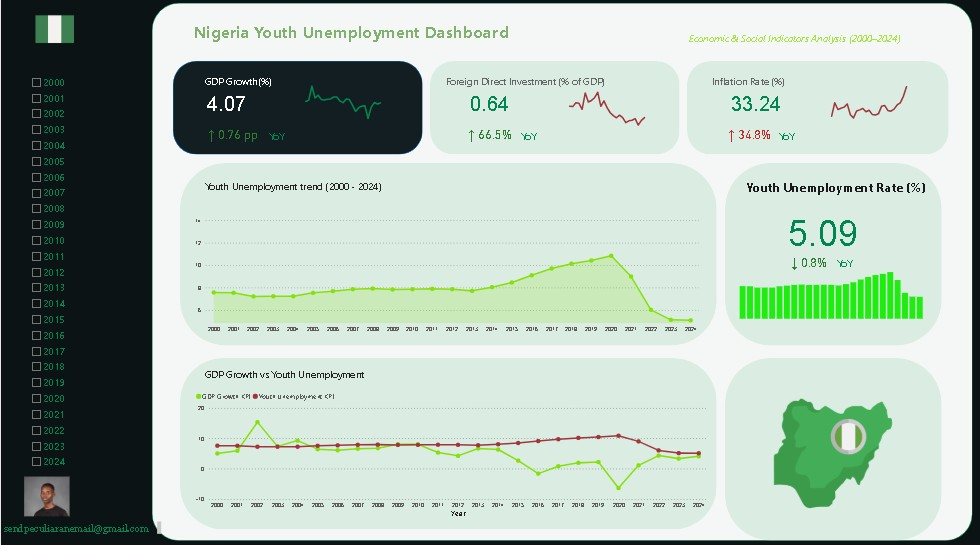

Layout of this report page (visuals, bound fields, positions):
{"tool":"powerbi","page":{"name":"Page 1","canvas":[1920,1080],"ordinal":0},"visuals":[{"type":"shape","box":[295.3,12.9,1608.1,1054.1],"z":0,"group":"g8"},{"type":"image","box":[58.2,12.9,92.7,103.5],"z":1000},{"type":"textbox","box":[372.9,40.9,676.9,60.4],"z":1000,"group":"g8"},{"type":"textbox","box":[1285.8,64.6,541,37.2],"z":2000,"group":"g8"},{"type":"slicer","fields":{"Values":["Economic_social_indicators.Year"]},"box":[47.4,148.7,206.9,786.8],"z":2000},{"type":"group","id":"g1","title":"Group 1","box":[1345.1,127.2,513.1,183.2],"z":3000,"group":"g8"},{"type":"group","id":"g2","title":"Group 2","box":[840.7,127.2,489.3,183.2],"z":4000,"group":"g8"},{"type":"shape","box":[840.7,127.2,489.3,183.2],"z":4000,"group":"g2"},{"type":"shape","box":[1418.4,709.2,424.7,357.8],"z":4000,"group":"g7"},{"type":"group","id":"g3","title":"Group 3","box":[336.3,127.2,489.3,183.2],"z":5000,"group":"g8"},{"type":"shape","box":[336.3,127.2,489.3,183.2],"z":5000,"group":"g3"},{"type":"image","box":[1480,764,302,264],"z":5000,"group":"g7"},{"type":"image","box":[30.2,937.7,120.7,88.4],"z":5000},{"type":"group","id":"g4","title":"Group 4","box":[1418.4,327.6,426.8,357.8],"z":6000,"group":"g8"},{"type":"shape","box":[1418.4,327.6,424.7,357.8],"z":6000,"group":"g4"},{"type":"textbox","box":[0,1025.1,319.5,41.2],"z":6000},{"type":"shape","box":[1345.1,127.2,513.1,183.2],"z":7000,"group":"g1"},{"type":"group","id":"g5","title":"Group 5","box":[351.3,327.6,1052,357.8],"z":7000,"group":"g8"},{"type":"shape","box":[351.3,327.6,1052,357.8],"z":8000,"group":"g5"},{"type":"group","id":"g6","title":"Group 6","box":[351.3,709.2,1052,336.3],"z":8000,"group":"g8"},{"type":"shape","box":[351.3,709.2,1052,336.3],"z":9000,"group":"g6"},{"type":"group","id":"g7","title":"Group 7","box":[1418.4,709.2,424.7,357.8],"z":9000,"group":"g8"},{"type":"card","fields":{"Values":["Economic_social_indicators.GDP Growth KPI"]},"box":[351.4,178.9,183.2,62.5],"z":12000,"group":"g3"},{"type":"card","fields":{"Values":["Economic_social_indicators.FDI_KPI"]},"box":[866.6,178.9,183.2,62.5],"z":13000,"group":"g2"},{"type":"group","id":"g8","title":"Group 8","box":[295.3,12.9,1608.1,1054.1],"z":13001},{"type":"card","fields":{"Values":["Economic_social_indicators.Inflation_KPI"]},"box":[1388.2,178.9,183.2,62.5],"z":14000,"group":"g1"},{"type":"card","fields":{"Values":["Economic_social_indicators.Youth Unemployment KPI"]},"box":[1519.7,403,183.2,109.9],"z":15000,"group":"g4"},{"type":"textbox","box":[394.5,148.8,278.1,45.3],"z":16000,"group":"g3"},{"type":"textbox","box":[866.6,148.8,342.8,45.3],"z":17000,"group":"g2"},{"type":"textbox","box":[1388.2,148.8,260.8,45.3],"z":18000,"group":"g1"},{"type":"textbox","box":[1457.2,353.5,388,49.6],"z":19000,"group":"g4"},{"type":"lineChart","fields":{"Category":["Economic_social_indicators.Year"],"Y":["Economic_social_indicators.GDP Growth KPI"]},"box":[582,148.8,213.4,107.8],"z":20000,"group":"g3"},{"type":"lineChart","fields":{"Category":["Economic_social_indicators.Year"],"Y":["Economic_social_indicators.FDI_KPI"]},"box":[1099.4,172.5,213.4,107.8],"z":21000,"group":"g2"},{"type":"lineChart","fields":{"Category":["Economic_social_indicators.Year"],"Y":["Economic_social_indicators.Inflation_KPI"]},"box":[1612.4,148.8,213.4,107.8],"z":22000,"group":"g1"},{"type":"columnChart","fields":{"Category":["Economic_social_indicators.Year"],"Y":["Economic_social_indicators.Youth Unemployment KPI"]},"box":[1442.1,491.4,383.7,146.6],"z":23000,"group":"g4"},{"type":"card","fields":{"Values":["Economic_social_indicators.GDP Growth YoY Display"]},"box":[375.1,241.5,159.5,58.2],"z":24000,"group":"g3"},{"type":"card","fields":{"Values":["Economic_social_indicators.FDI YoY Display"]},"box":[866.6,241.5,183.2,58.2],"z":25000,"group":"g2"},{"type":"card","fields":{"Values":["Economic_social_indicators.Youth Unemployment YoY Display"]},"box":[1502.5,491.4,159.5,58.2],"z":26000,"group":"g4"},{"type":"card","fields":{"Values":["Economic_social_indicators.Inflation YoY Display"]},"box":[1388.2,241.5,159.5,58.2],"z":27000,"group":"g1"},{"type":"textbox","box":[519.5,256.5,125,47.4],"z":28000,"group":"g3"},{"type":"textbox","box":[1013.2,256.5,194,53.9],"z":29000,"group":"g2"},{"type":"textbox","box":[1519.7,256.5,131.5,53.9],"z":30000,"group":"g1"},{"type":"textbox","box":[1631.8,506.5,88.4,58.2],"z":31000,"group":"g4"},{"type":"areaChart","fields":{"Category":["YEAR.Year"],"Y":["Economic_social_indicators.Youth Unemployment KPI"]},"box":[375,403,998.1,265.1],"z":32000,"group":"g5"},{"type":"lineChart","fields":{"Category":["Economic_social_indicators.Year"],"Y":["Economic_social_indicators.GDP Growth KPI","Economic_social_indicators.Youth Unemployment KPI"]},"box":[375.9,764,1012,264],"z":33000,"group":"g6"},{"type":"textbox","box":[393.9,353.9,936,46],"z":34000,"group":"g5"},{"type":"textbox","box":[393.9,724,952,40],"z":35000,"group":"g6"}]}

Visuals, with their boxes in screenshot pixels (x1, y1, x2, y2), scaled from the page's 1920x1080 canvas onto the 980x545 screenshot:
shape: l=151, t=7, r=972, b=538
image: l=30, t=7, r=77, b=59
textbox: l=190, t=21, r=536, b=51
textbox: l=656, t=33, r=932, b=51
slicer - Economic_social_indicators.Year: l=24, t=75, r=130, b=472
"Group 1" group: l=687, t=64, r=948, b=157
"Group 2" group: l=429, t=64, r=679, b=157
shape: l=429, t=64, r=679, b=157
shape: l=724, t=358, r=941, b=538
"Group 3" group: l=172, t=64, r=421, b=157
shape: l=172, t=64, r=421, b=157
image: l=755, t=386, r=910, b=519
image: l=15, t=473, r=77, b=518
"Group 4" group: l=724, t=165, r=942, b=346
shape: l=724, t=165, r=941, b=346
textbox: l=0, t=517, r=163, b=538
shape: l=687, t=64, r=948, b=157
"Group 5" group: l=179, t=165, r=716, b=346
shape: l=179, t=165, r=716, b=346
"Group 6" group: l=179, t=358, r=716, b=528
shape: l=179, t=358, r=716, b=528
"Group 7" group: l=724, t=358, r=941, b=538
card - Economic_social_indicators.GDP Growth KPI: l=179, t=90, r=273, b=122
card - Economic_social_indicators.FDI_KPI: l=442, t=90, r=536, b=122
"Group 8" group: l=151, t=7, r=972, b=538
card - Economic_social_indicators.Inflation_KPI: l=709, t=90, r=802, b=122
card - Economic_social_indicators.Youth Unemployment KPI: l=776, t=203, r=869, b=259
textbox: l=201, t=75, r=343, b=98
textbox: l=442, t=75, r=617, b=98
textbox: l=709, t=75, r=842, b=98
textbox: l=744, t=178, r=942, b=203
lineChart - Economic_social_indicators.Year x Economic_social_indicators.GDP Growth KPI: l=297, t=75, r=406, b=129
lineChart - Economic_social_indicators.Year x Economic_social_indicators.FDI_KPI: l=561, t=87, r=670, b=141
lineChart - Economic_social_indicators.Year x Economic_social_indicators.Inflation_KPI: l=823, t=75, r=932, b=129
columnChart - Economic_social_indicators.Year x Economic_social_indicators.Youth Unemployment KPI: l=736, t=248, r=932, b=322
card - Economic_social_indicators.GDP Growth YoY Display: l=191, t=122, r=273, b=151
card - Economic_social_indicators.FDI YoY Display: l=442, t=122, r=536, b=151
card - Economic_social_indicators.Youth Unemployment YoY Display: l=767, t=248, r=848, b=277
card - Economic_social_indicators.Inflation YoY Display: l=709, t=122, r=790, b=151
textbox: l=265, t=129, r=329, b=153
textbox: l=517, t=129, r=616, b=157
textbox: l=776, t=129, r=843, b=157
textbox: l=833, t=256, r=878, b=285
areaChart - YEAR.Year x Economic_social_indicators.Youth Unemployment KPI: l=191, t=203, r=701, b=337
lineChart - Economic_social_indicators.Year x Economic_social_indicators.GDP Growth KPI: l=192, t=386, r=708, b=519
textbox: l=201, t=179, r=679, b=202
textbox: l=201, t=365, r=687, b=386
